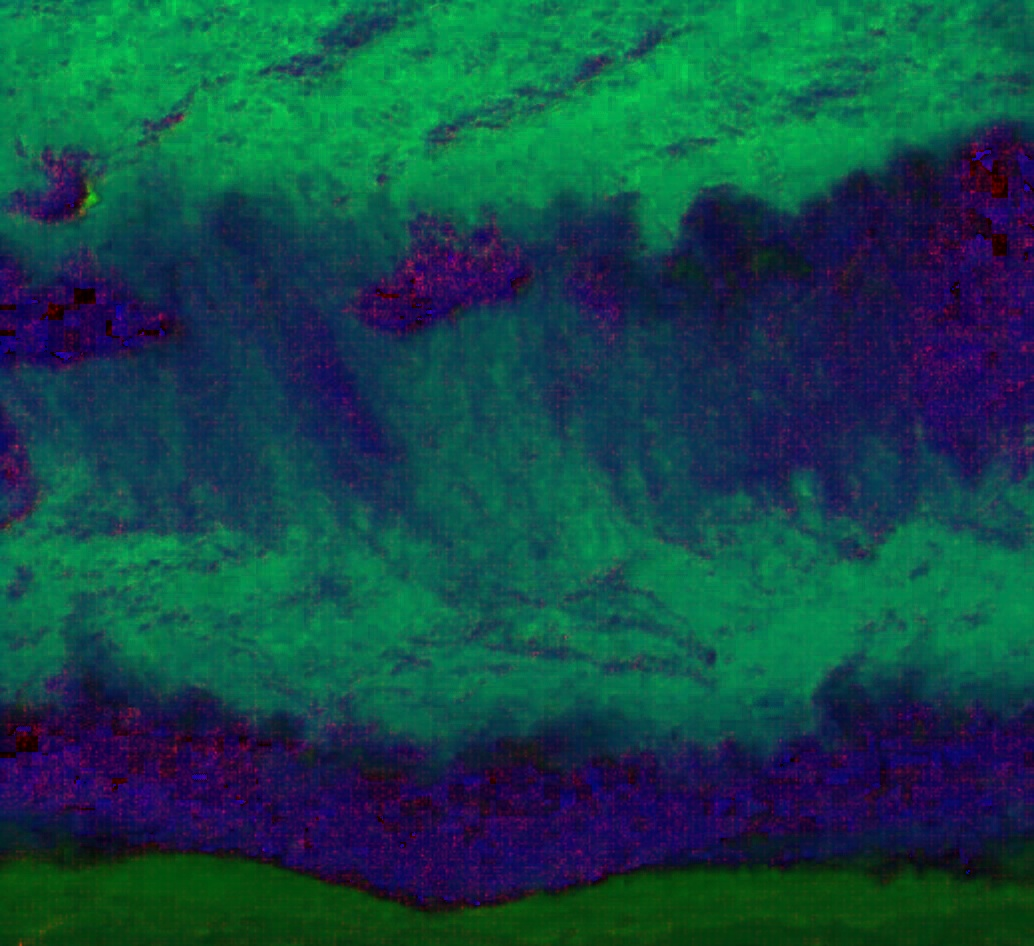rip_current: (322, 225, 761, 718)
